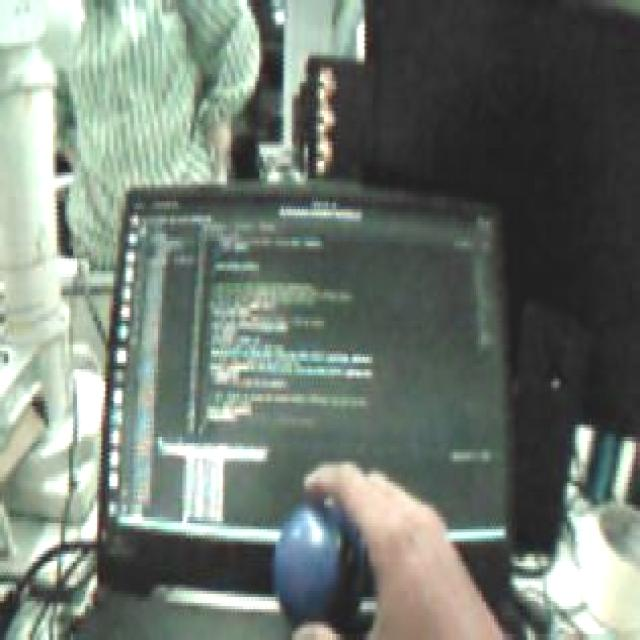BallPurple: (274, 501, 366, 632)
